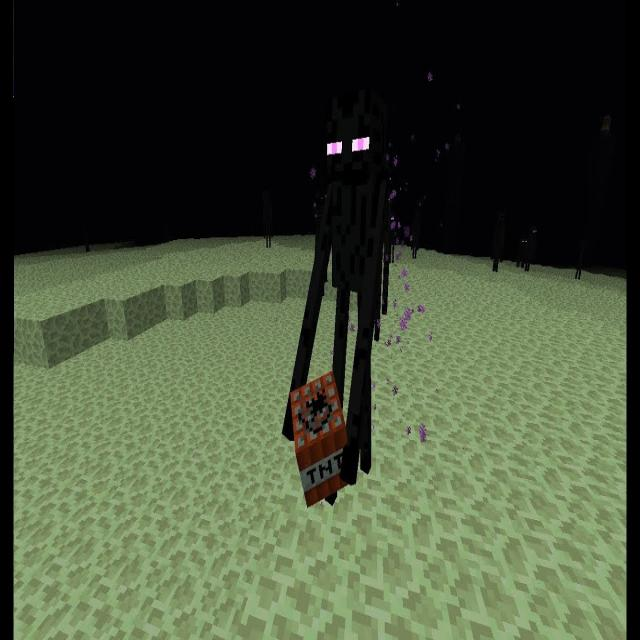Enderman: (274, 62, 404, 507)
